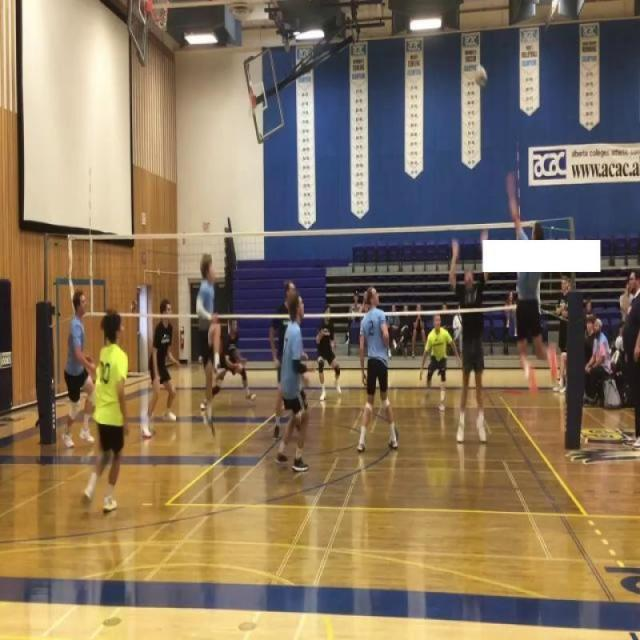volleyball: (473, 64, 488, 87), (198, 355, 204, 365)
